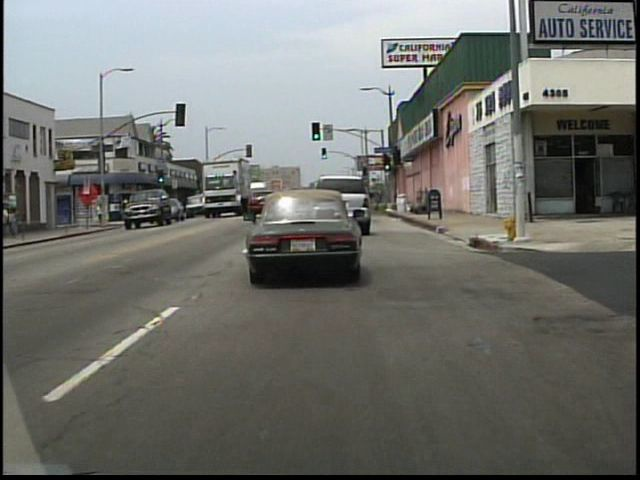person: (11, 206, 23, 238), (3, 204, 15, 236), (96, 202, 108, 226)
